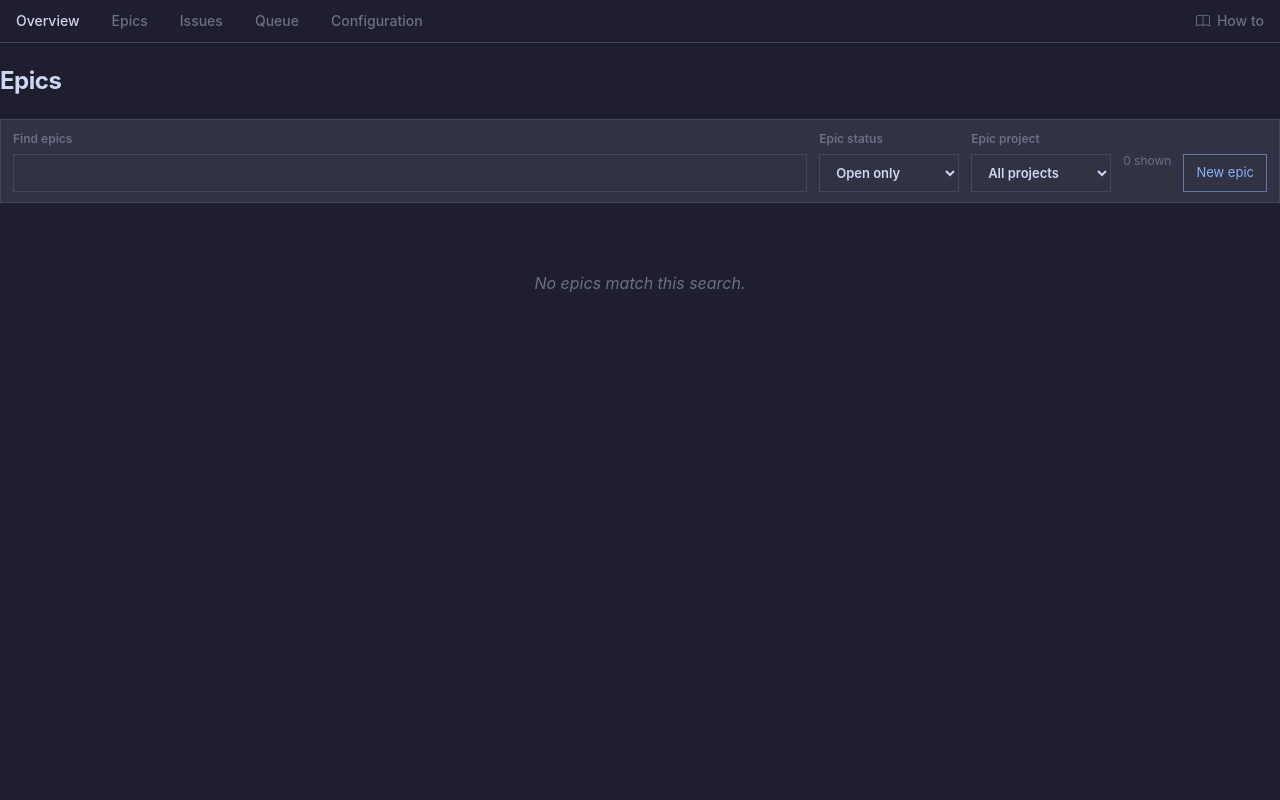
Factory interactions › requires a selected Factory project and submits its canonical path
Click the button "New epic": (1225, 173) [1183,154,1267,192]
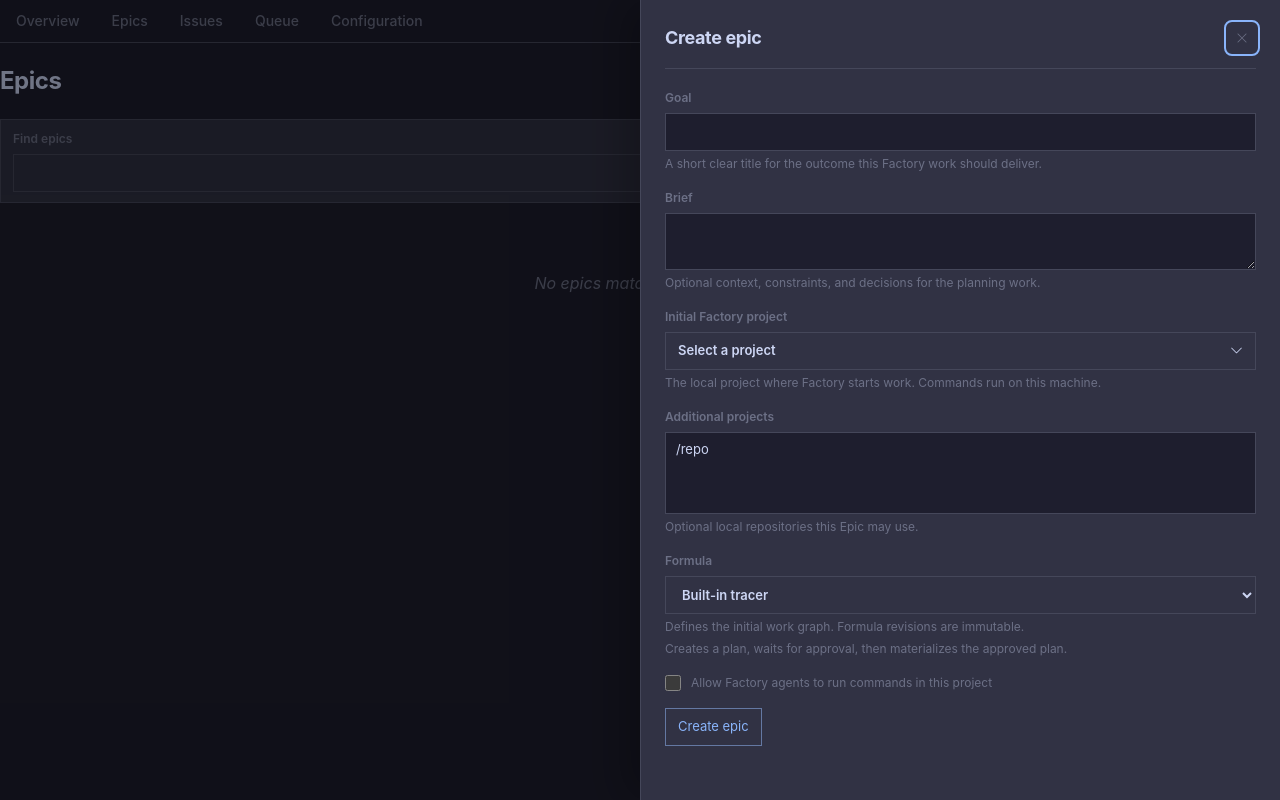
In the field labelled "Goal": (960, 132) [665,113,1256,151], type "Ship Factory"
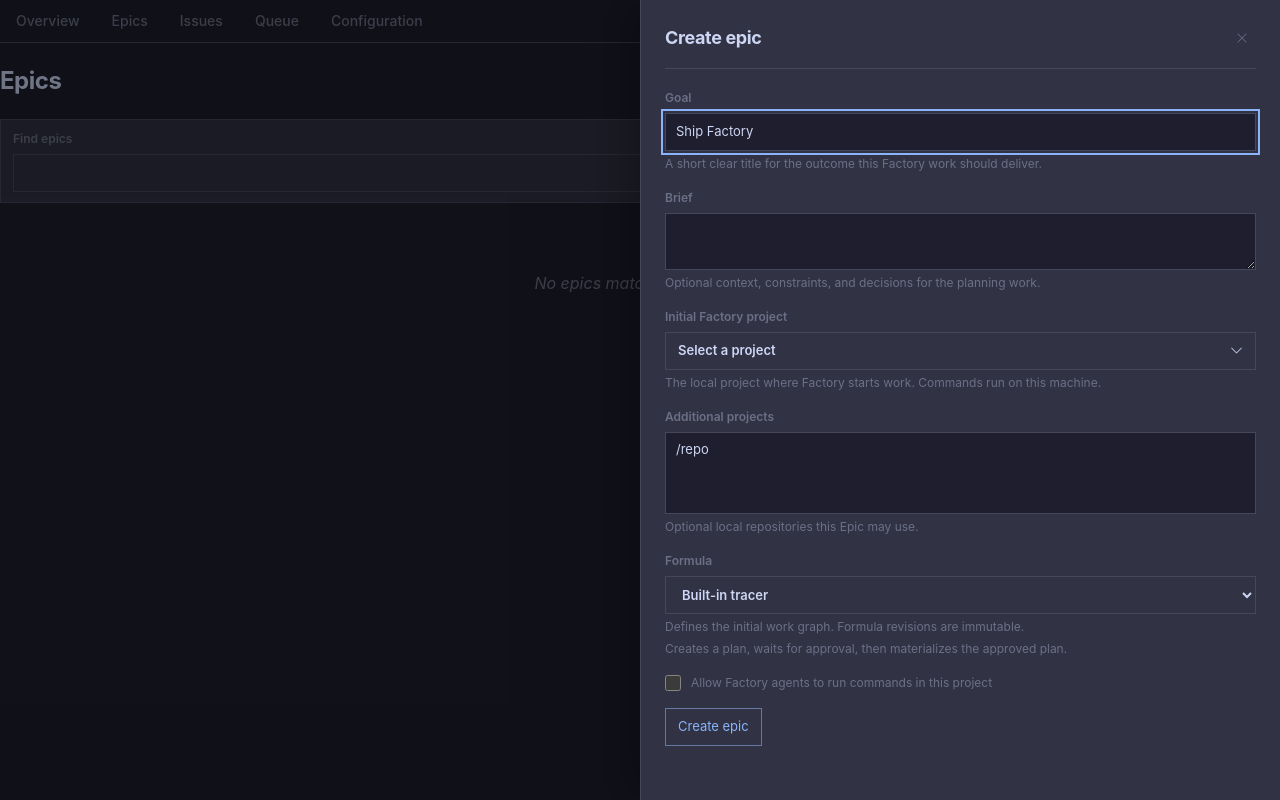
Click the button "Create epic": (713, 727) [665,708,762,746]
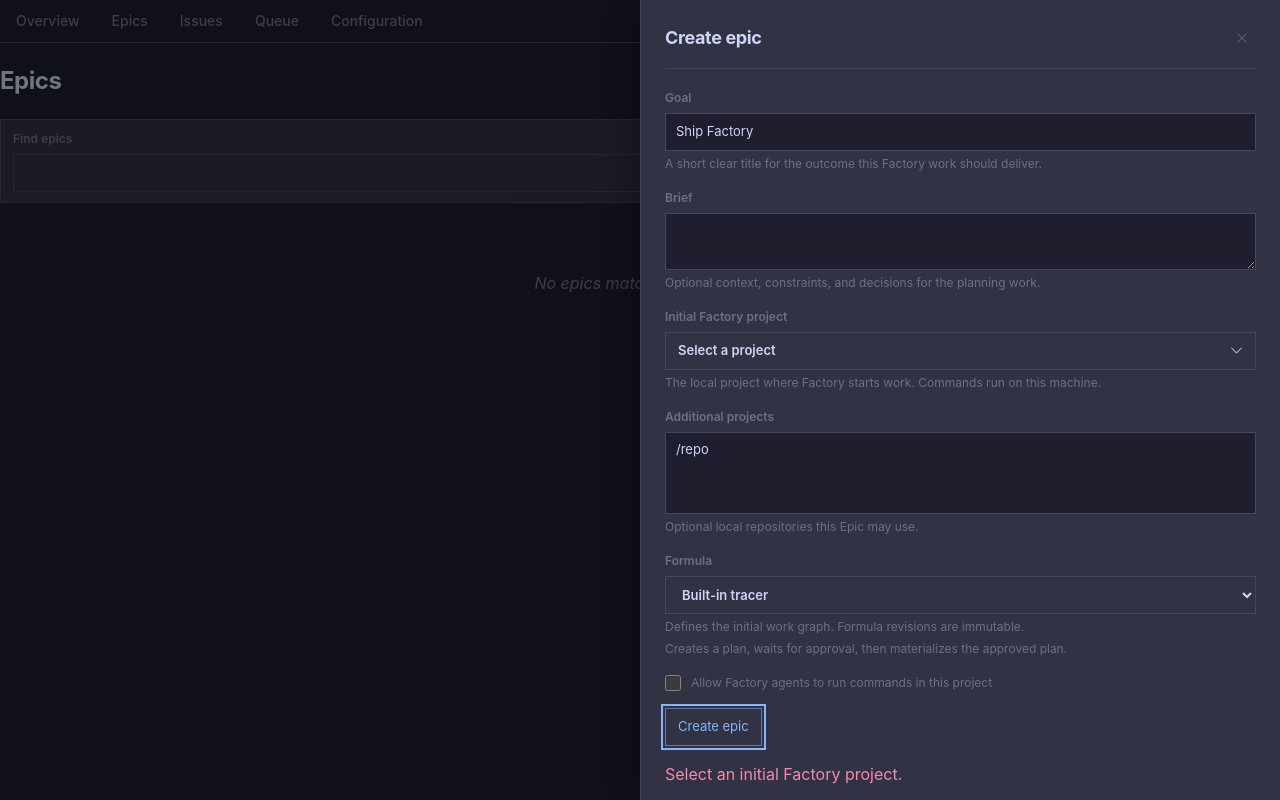
Now the message reads "Select an initial Factory project.", box [665,764,902,784]
Click the dropdown named "Initial Factory project": (727, 350) [665,332,1256,370]
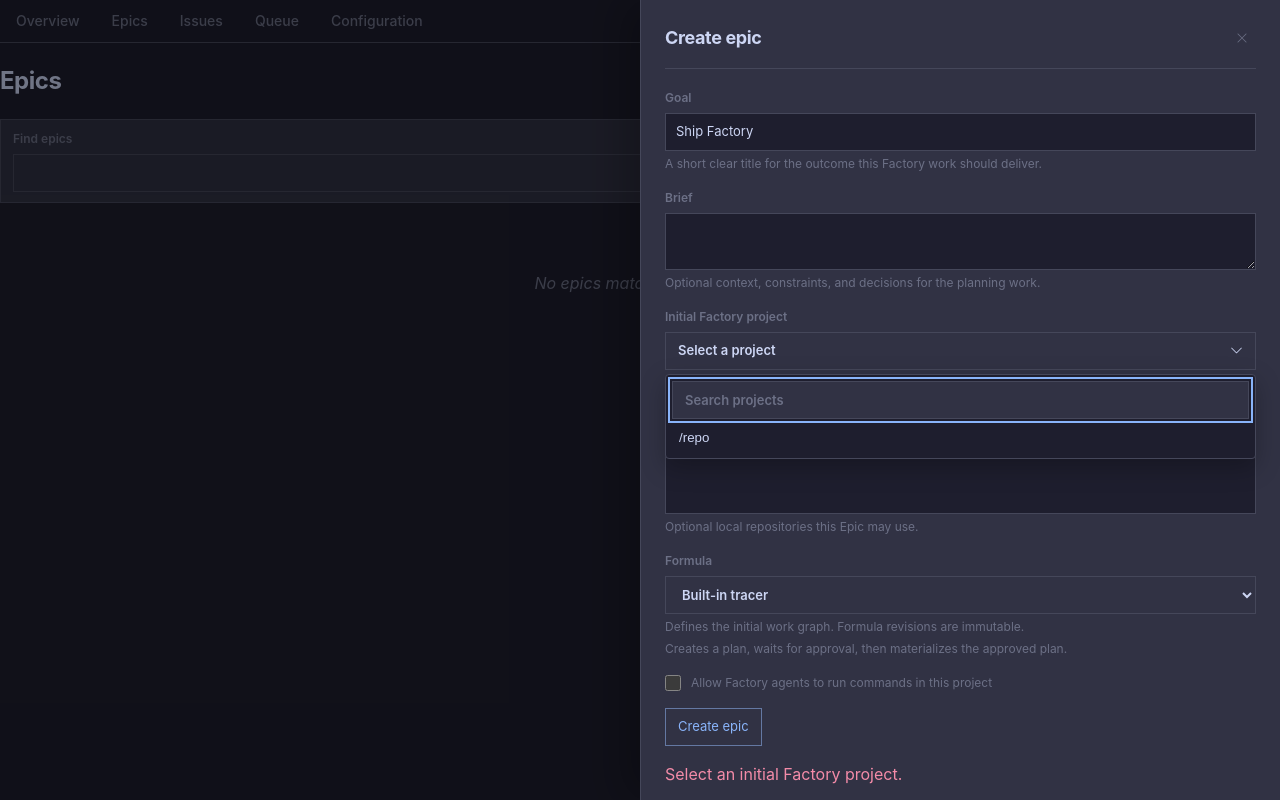
Click the option "/repo": (694, 438) [672,423,1249,452]
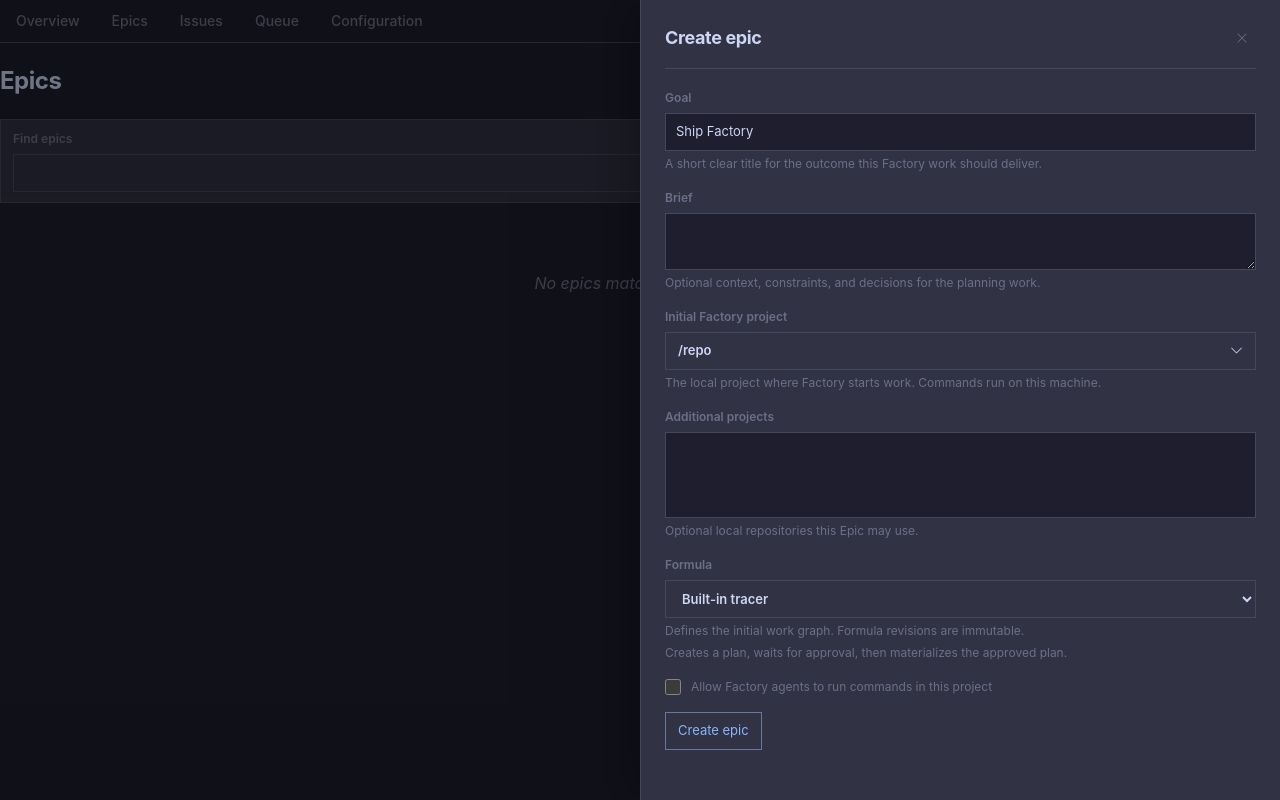
Now the message "Select an initial Factory project." is gone
Click the button "Create epic": (713, 731) [665,712,762,750]
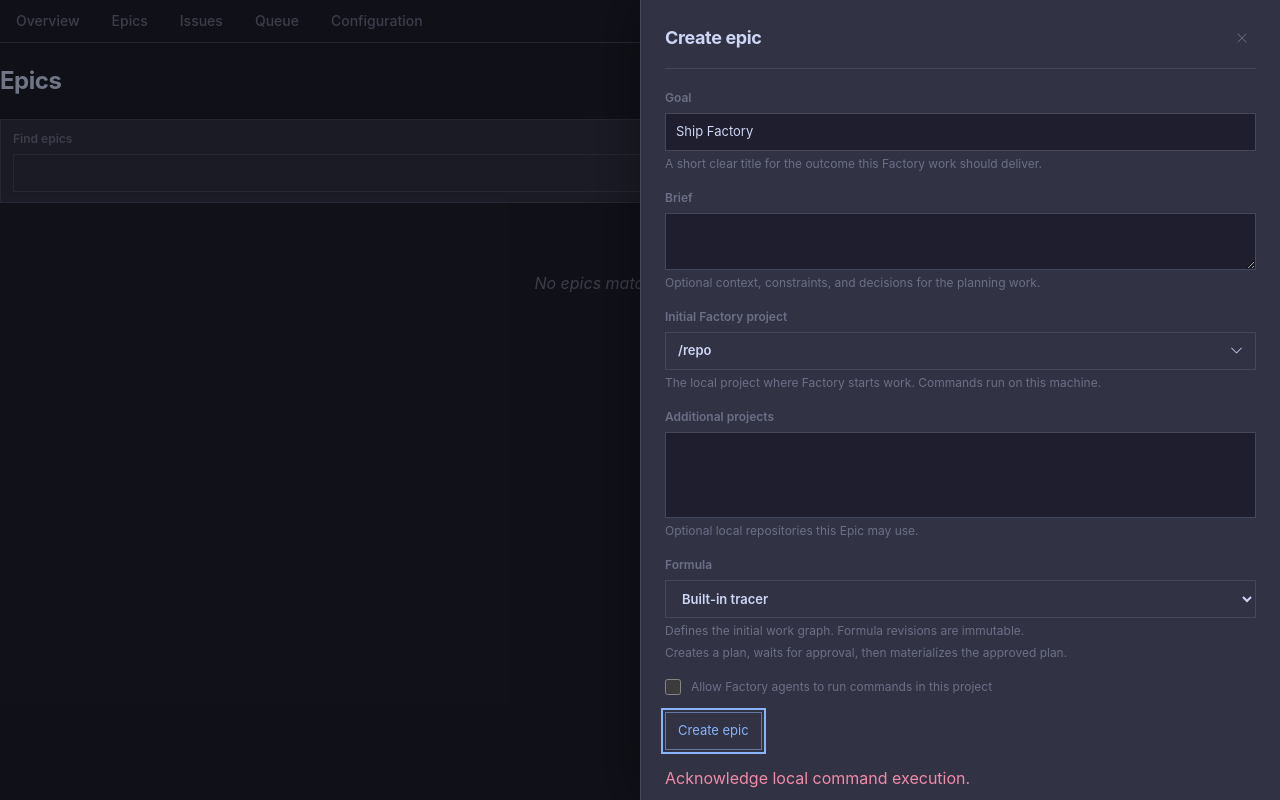
Now the message reads "Acknowledge local command execution.", box [665,768,970,788]
